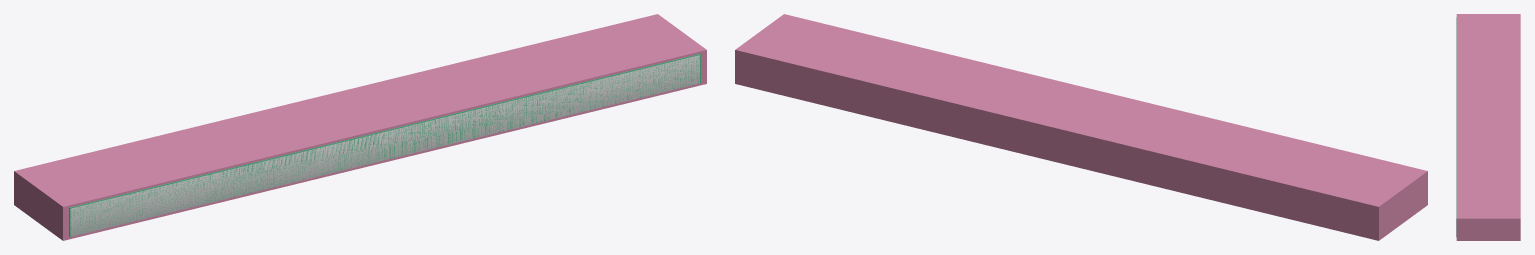
File: curb_straight_8m.dae
3 renders of one model, left to right at view 1: azimuth 30°, elevation 25°; view 2: azimuth 150°, elevation 25°; view 3: azimuth 270°, elevation 25°, orthographic. The views are drawn at different scales.
Parts seen in each view (by area): view 1: Untitled, tree_oak_bush_a300, Colmesh-1; view 2: Untitled; view 3: Untitled, Colmesh-1.
Part boxes in pixels (box(x1,y1,x2,y2)): Untitled: box(14, 14, 706, 240); tree_oak_bush_a300: box(70, 55, 699, 236); Colmesh-1: box(69, 53, 700, 236); Untitled: box(735, 14, 1427, 240); Untitled: box(1456, 14, 1520, 240); Colmesh-1: box(1456, 17, 1456, 236).
Size of the model in its own units: 8.06 by 1.07 by 0.4075.
